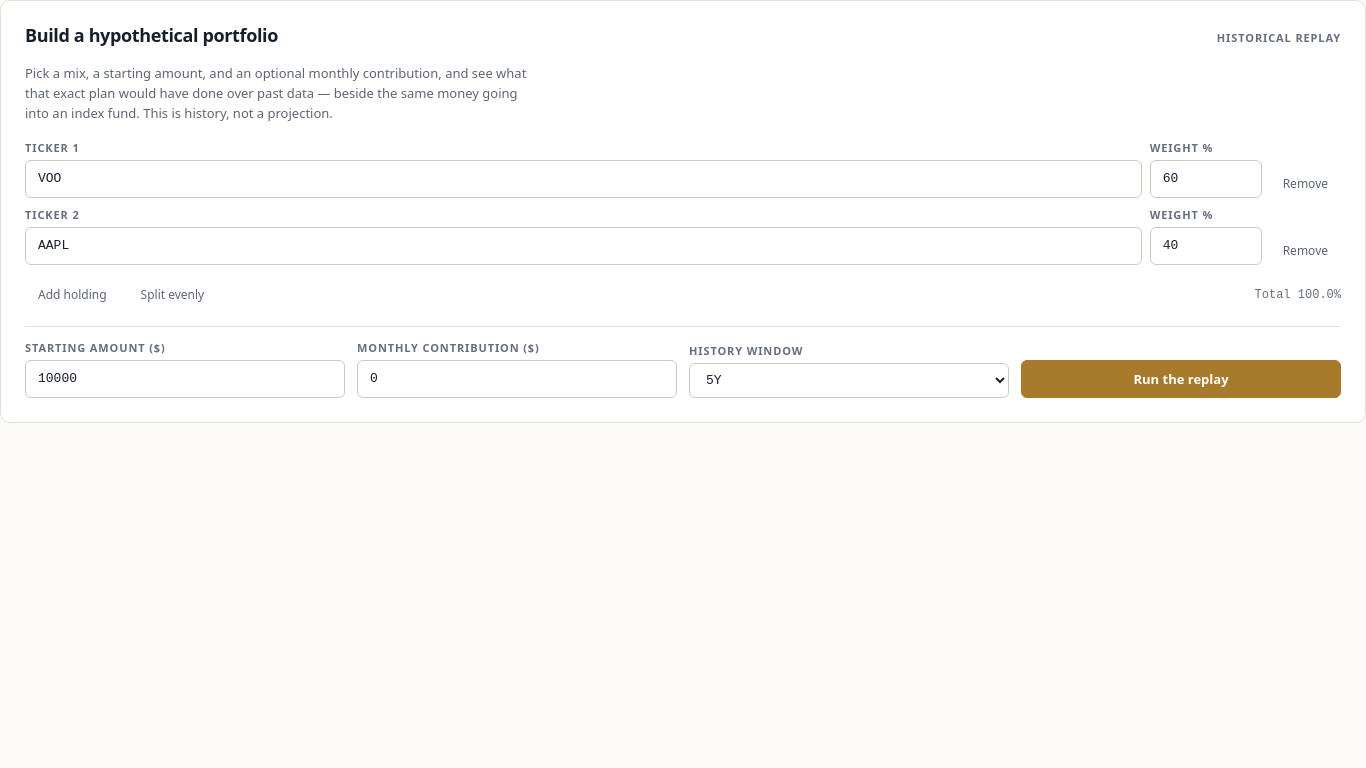
PortfolioBuilder › labels the results as a hypothetical historical simulation
The width and height of the screenshot is (1366, 768).
Click the button "Run the replay" at (1181, 379), box x1=1021 y1=360 x2=1341 y2=398
(page scrolled)
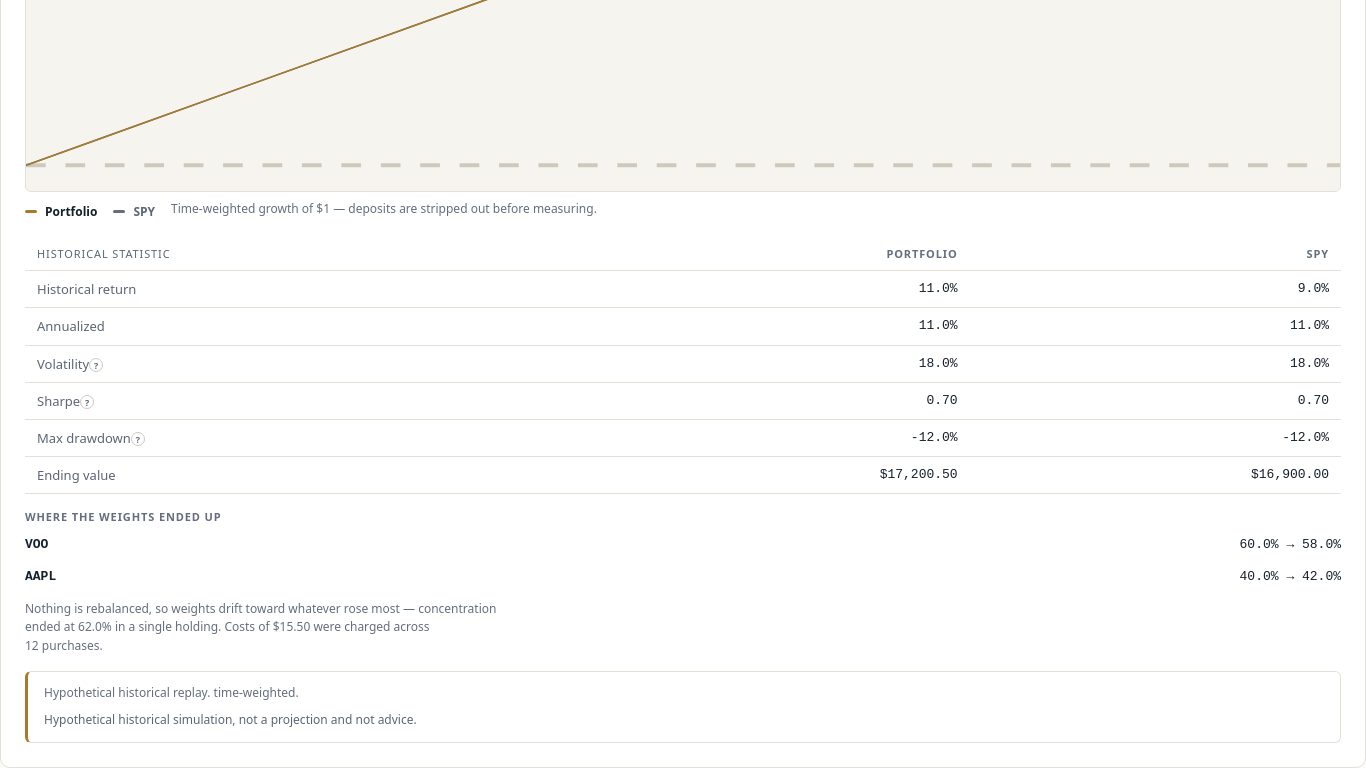
Expected: the text "not a projection and not advice" is shown, x1=44 y1=711 x2=417 y2=728
